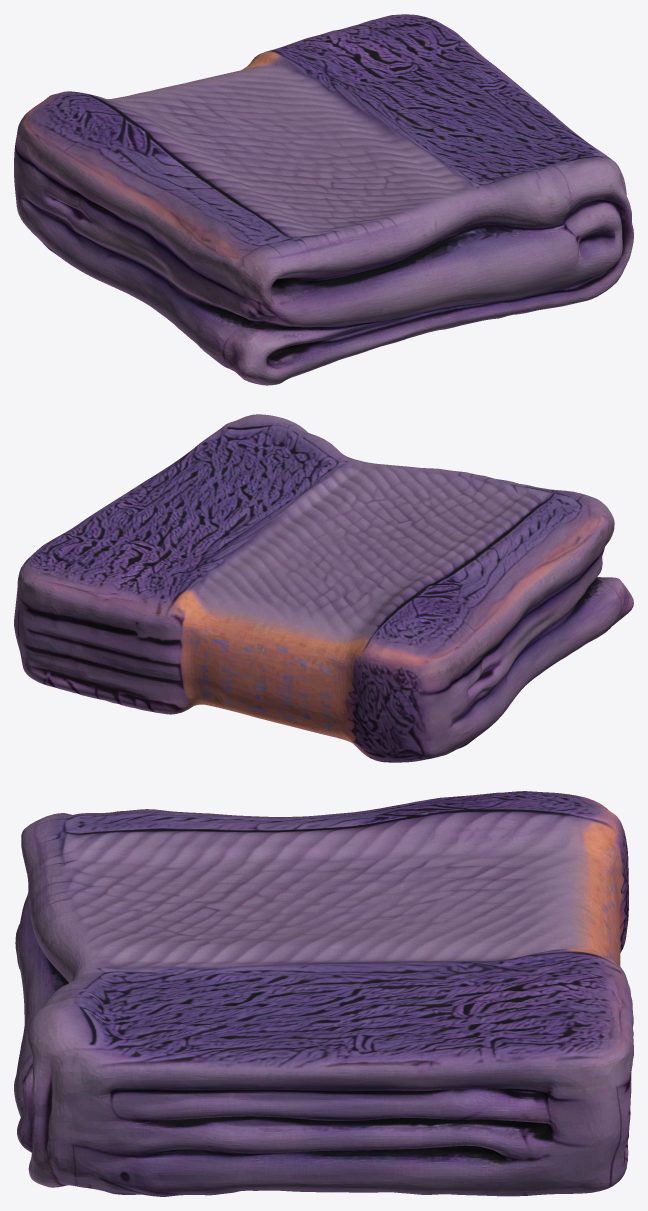
File: image_0002_segmented.glb
3 views of the same model, one above another, from view 1: azimuth 30°, elevation 25°; view 2: azimuth 150°, elevation 25°; view 3: azimuth 270°, elevation 25° (orthographic). The views are drawn at different scales.
Parts seen in each view (by area): view 1: tmpojux0kvs.ply; view 2: tmpojux0kvs.ply; view 3: tmpojux0kvs.ply.
Part boxes in pixels (x1,y1,x2,y2): tmpojux0kvs.ply: (14, 14, 633, 385); tmpojux0kvs.ply: (14, 414, 633, 762); tmpojux0kvs.ply: (14, 791, 633, 1196).
Bounding box in the file's own units: 1.99 × 0.6415 × 1.89.
1 material, 1 textured.
